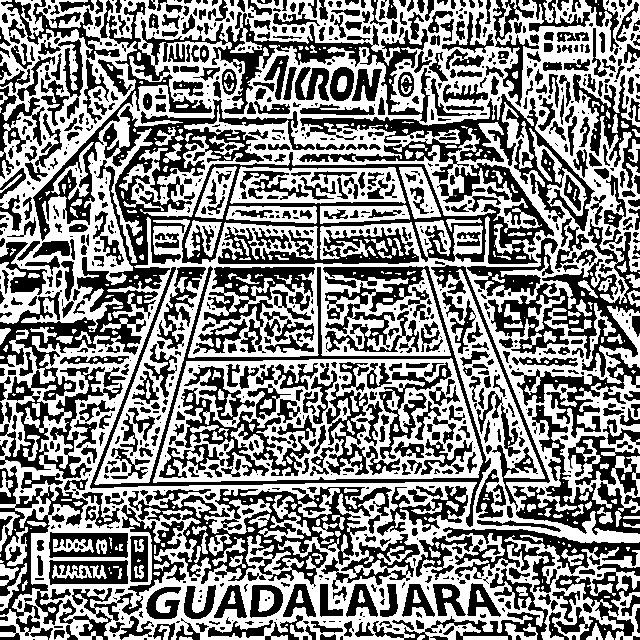left side: (397, 166, 549, 481), (91, 166, 239, 487)
player: (466, 389, 514, 526), (286, 111, 299, 170)
